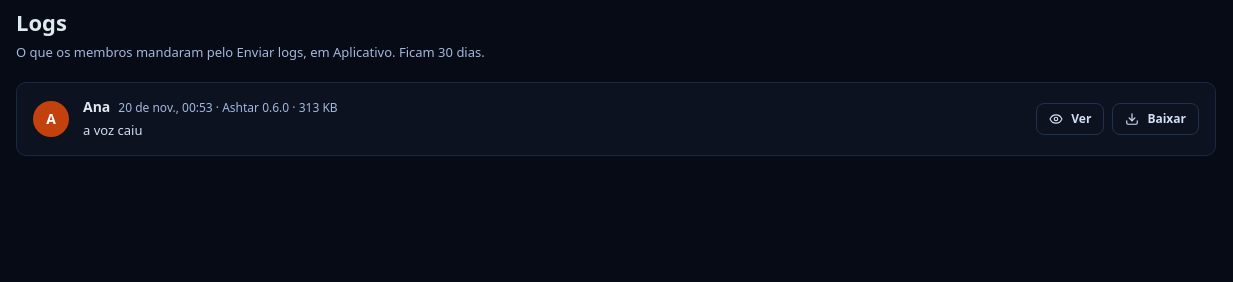
Test: o Painel › Ver abre os arquivos do .zip ali mesmo; Baixar salva pelo Rust
Later steps or results of the test are not shown.
Step 1. Click the button with aria-label "Ver os logs de Ana" → (1070, 119), box [1036,103,1104,135]
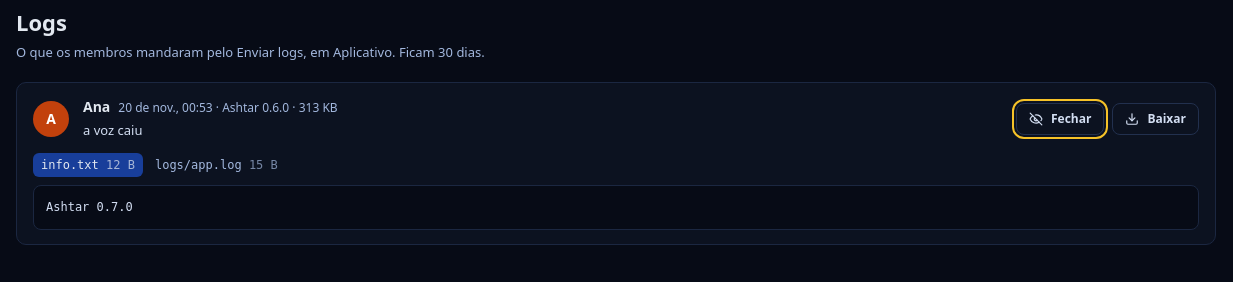
Expected: the text "Ashtar 0.7.0" is shown, [33,184,1199,230]
Step 2. Click the tab "logs/app.log 15 B" → (216, 164), box [147,152,286,176]
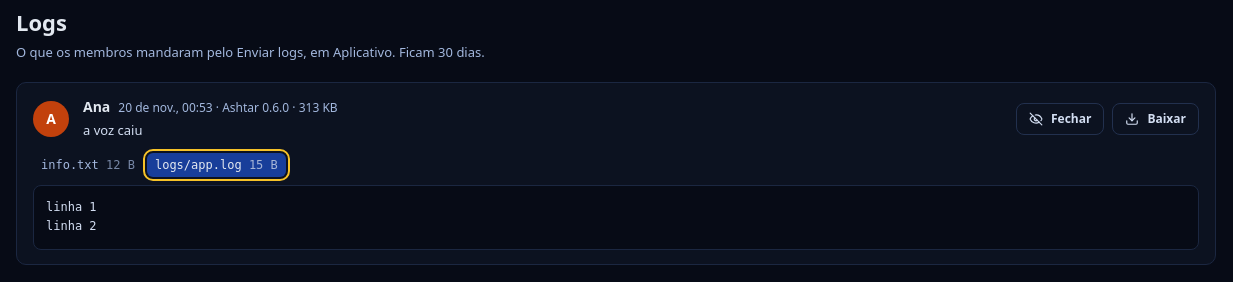
Expected: the text "linha 1 linha 2" is shown, [33,184,1199,250]
